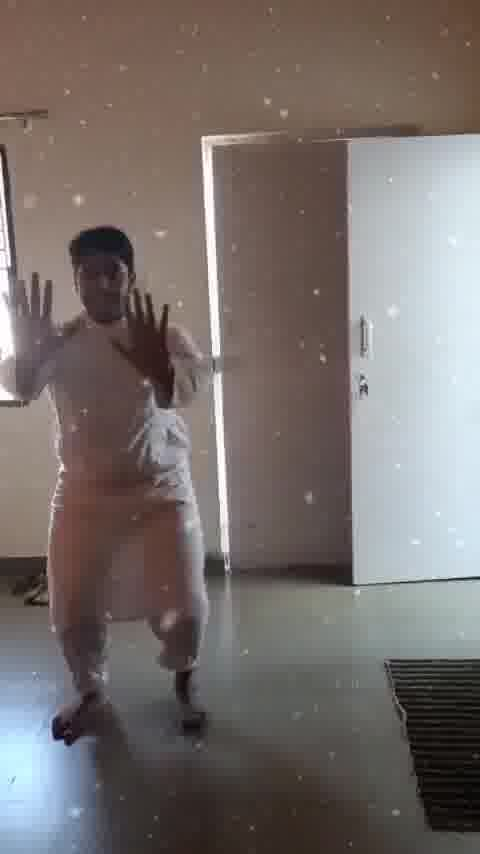duck: (14, 224, 237, 757)
